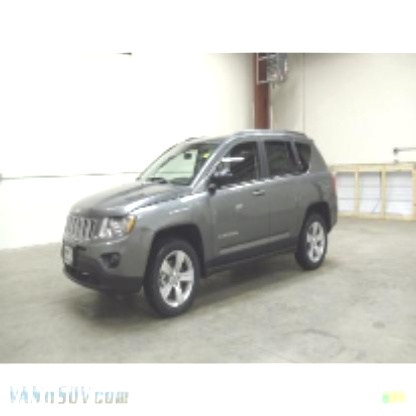Vehicle: (60, 131, 340, 319)
